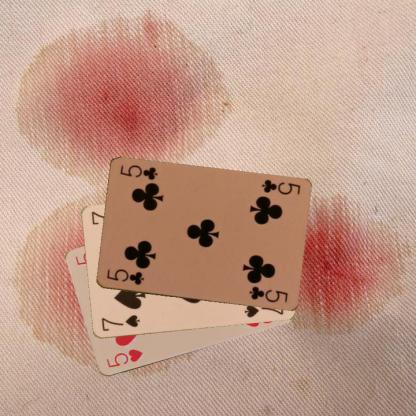5c: (258, 177, 302, 196), (104, 266, 145, 286)
5h: (103, 347, 144, 369)
7s: (98, 312, 141, 333)
